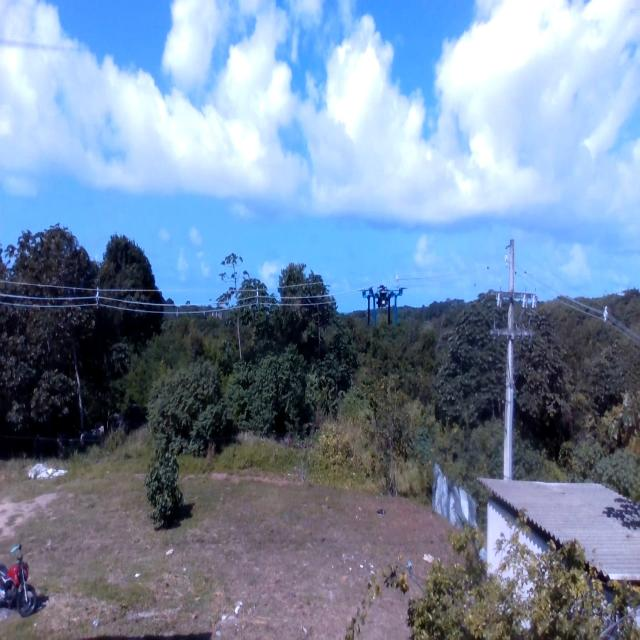-uav-: (354, 265, 413, 336)
